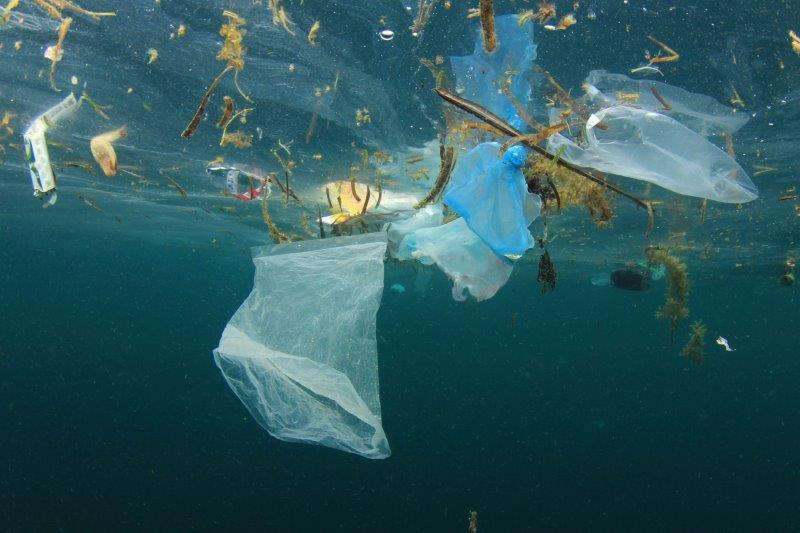plastic: (209, 230, 392, 463), (548, 108, 762, 208), (392, 186, 548, 306), (426, 141, 543, 262)
